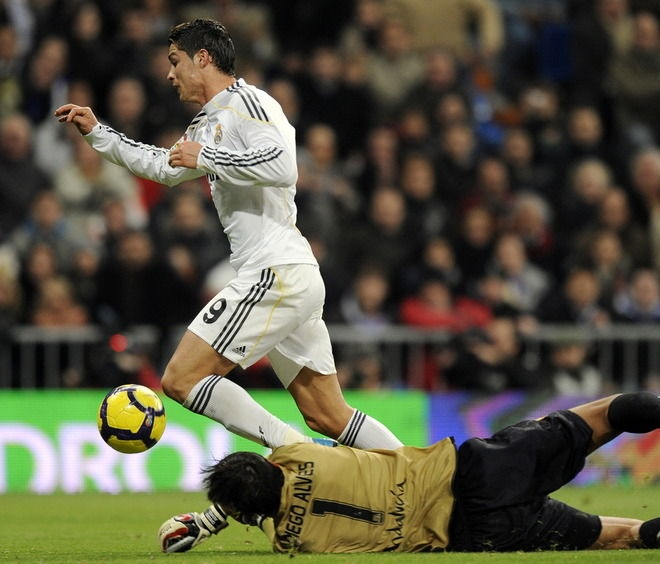falling: (153, 374, 660, 553)
